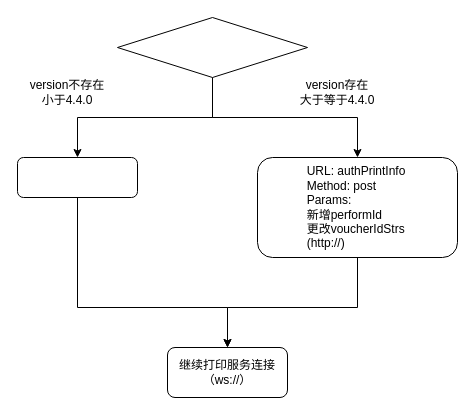
Image size: 475x415. Some labels were removed from this diagram. Here are the shapes that lost their labels. From the top down, the centre of each, then its label:
At (x=212, y=47): "和打印服务链接（ws://）".
At (x=77, y=177): "老链路不变".
